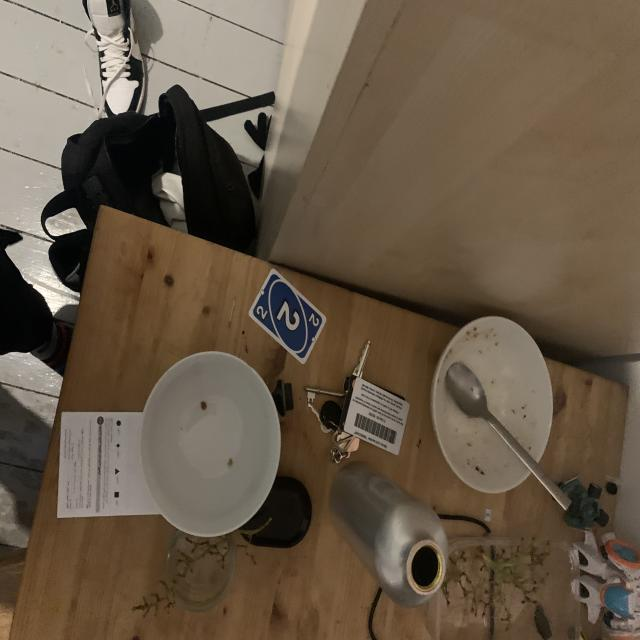lblue-2: (254, 303, 268, 321)
